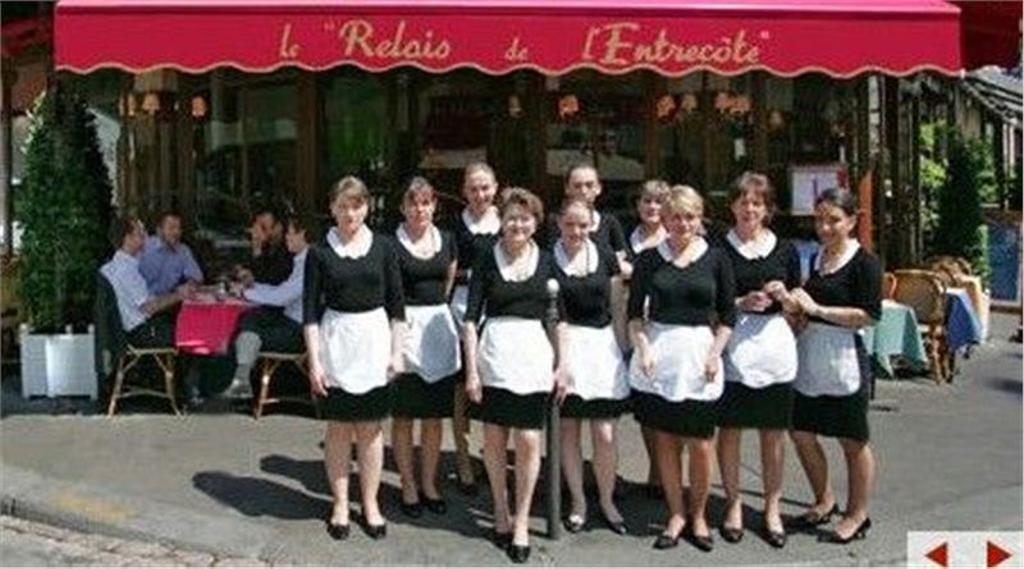face: (814, 208, 847, 245), (500, 210, 533, 246), (736, 192, 767, 227), (561, 214, 590, 249), (335, 198, 364, 233), (638, 191, 666, 225), (466, 178, 494, 212), (569, 176, 596, 208), (406, 197, 433, 228), (668, 212, 697, 240), (256, 217, 275, 247), (162, 219, 181, 245), (284, 224, 301, 251), (127, 225, 143, 248)
